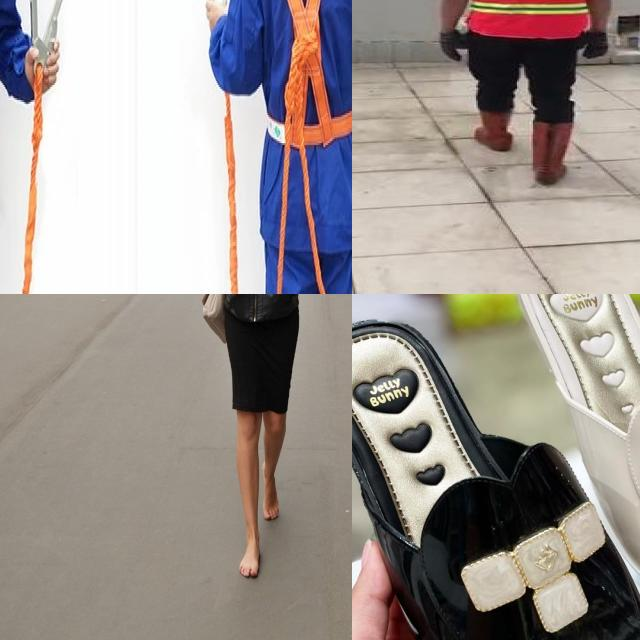Barefoots: (262, 461, 279, 520), (239, 533, 260, 578)
Harness: (260, 0, 352, 150)
Sandals: (352, 294, 640, 640), (517, 294, 640, 640)
boots: (528, 119, 578, 183), (473, 107, 515, 152)
hand_glove: (578, 30, 612, 59), (439, 31, 469, 61)
person: (427, 0, 622, 192)
vest: (469, 0, 597, 37)
